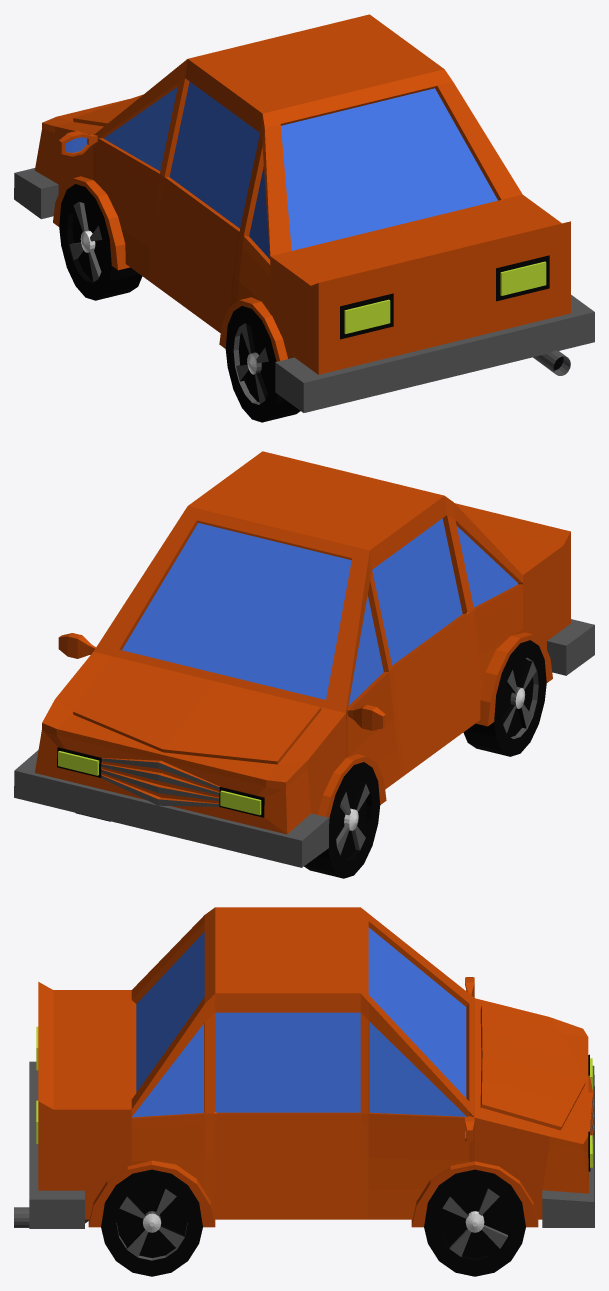
Rendered from carOrange.glb.
3 views of the same model, one above another, from view 1: azimuth 30°, elevation 25°; view 2: azimuth 150°, elevation 25°; view 3: azimuth 270°, elevation 25° (orthographic). The views are drawn at different scales.
Visible parts, largest first — view 1: Car7; view 2: Car7; view 3: Car7.
Boxes of the visible parts, box(x1,y1,x2,y2) form: Car7: box(14, 14, 594, 422); Car7: box(14, 451, 594, 878); Car7: box(14, 907, 594, 1276).
Bounding box in the file's own units: 10 × 8 × 16.
